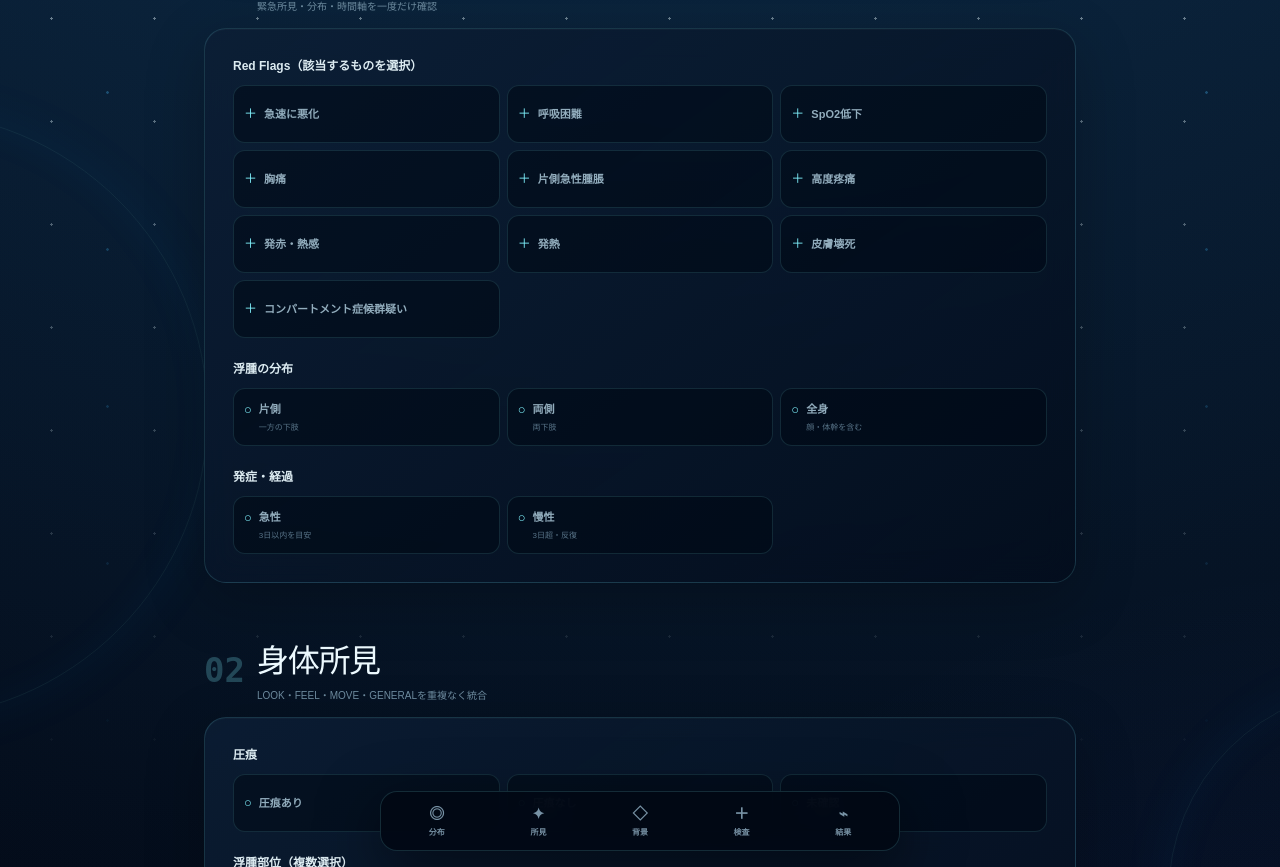
Bedside Edema Navigator › conditionally shows systemic findings and BNP only for bilateral edema
(page scrolled)
What coordinates should you click on to do the following:
click the button named "両側両下肢"
I would click on:
 (522, 409)
Its box is [507,388,773,446].
(page scrolled)
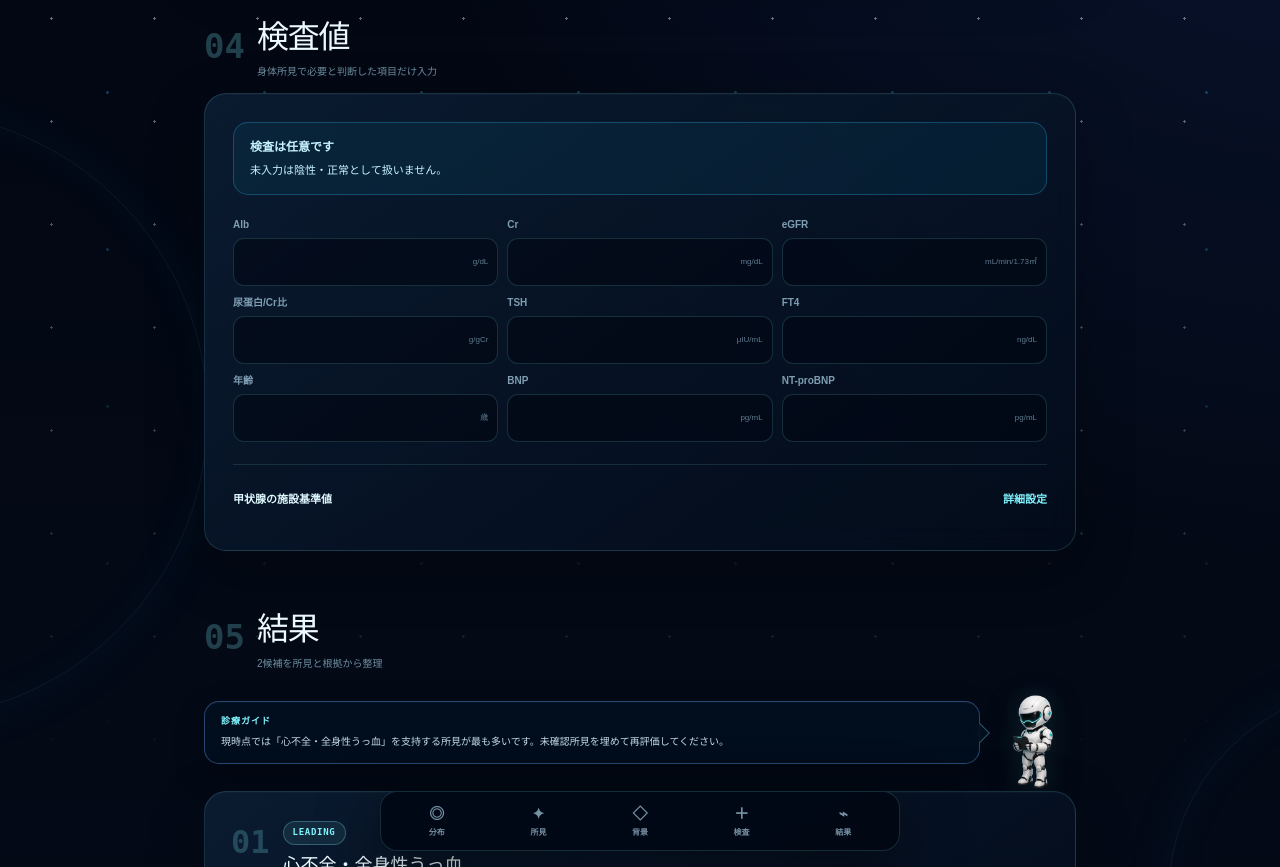
Expected: the number field labelled "BNP" is shown, [508,395,740,441]
